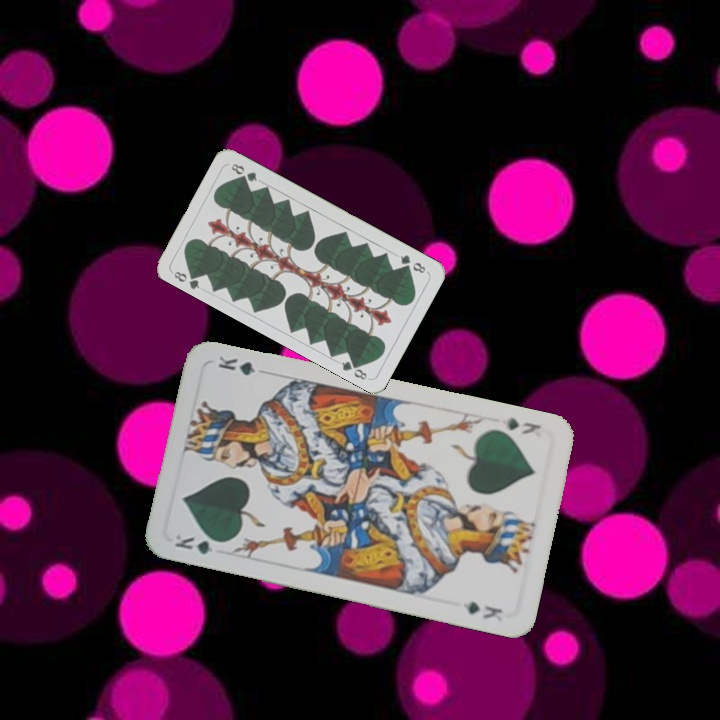G8: (396, 251, 428, 276), (170, 267, 202, 292)
GK: (170, 529, 229, 558), (503, 413, 543, 438)
